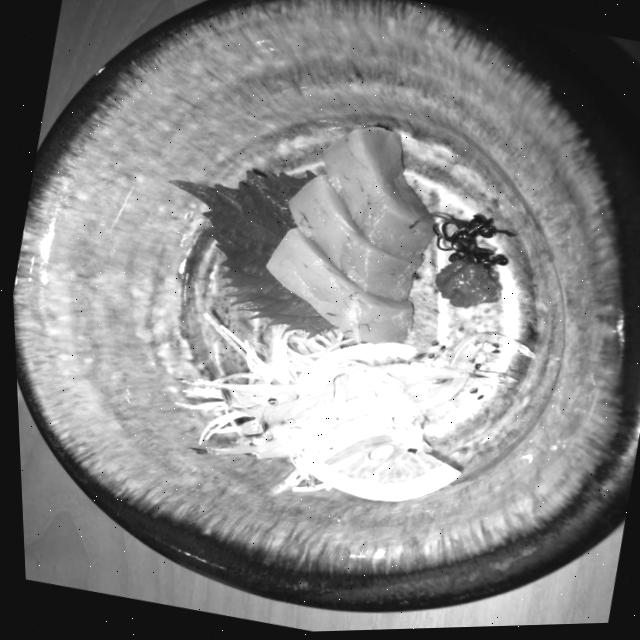刺身生食: (165, 38, 514, 412)
